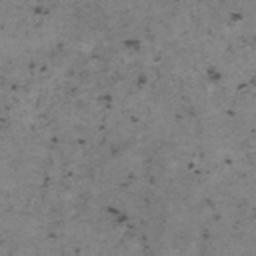Oxide scale of temperature system: (0, 6, 164, 256), (175, 68, 256, 243), (45, 230, 81, 255), (229, 10, 244, 23)
